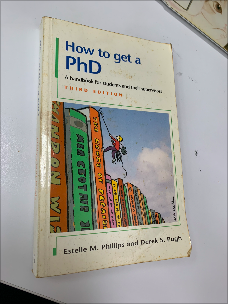object_name: (30, 7, 196, 277)
